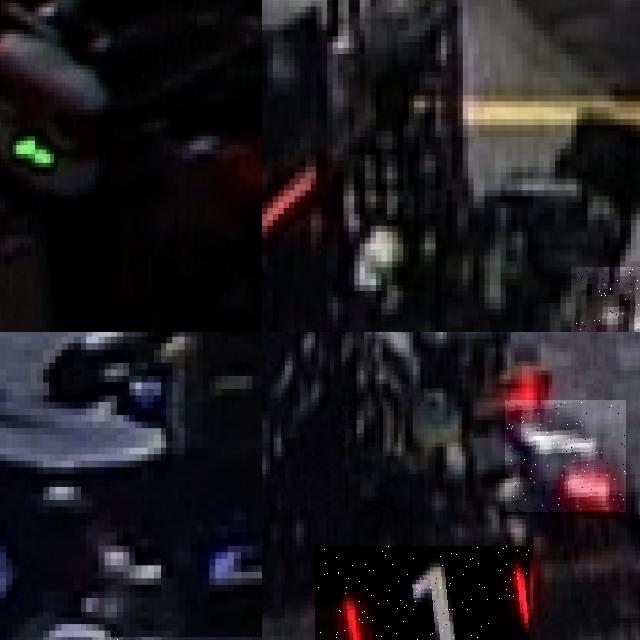R1: (315, 546, 529, 640), (505, 400, 626, 512), (571, 267, 640, 332)
